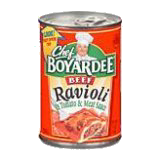grozi_90: (38, 10, 122, 148)
